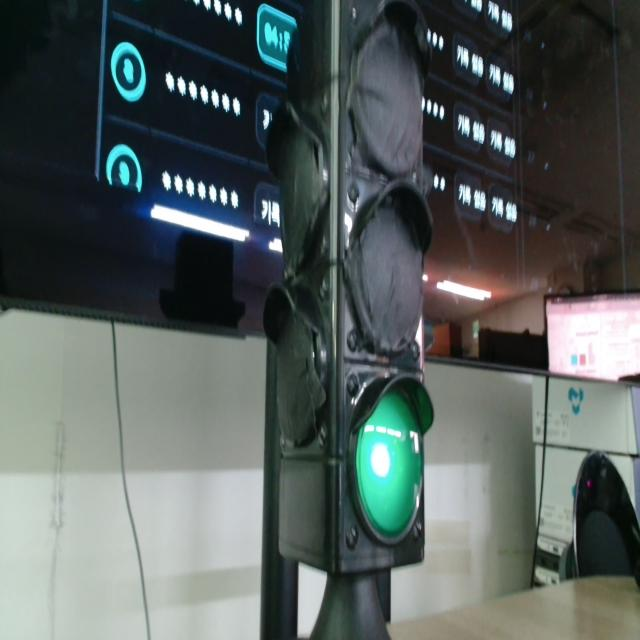green_light: (356, 390, 422, 538)
